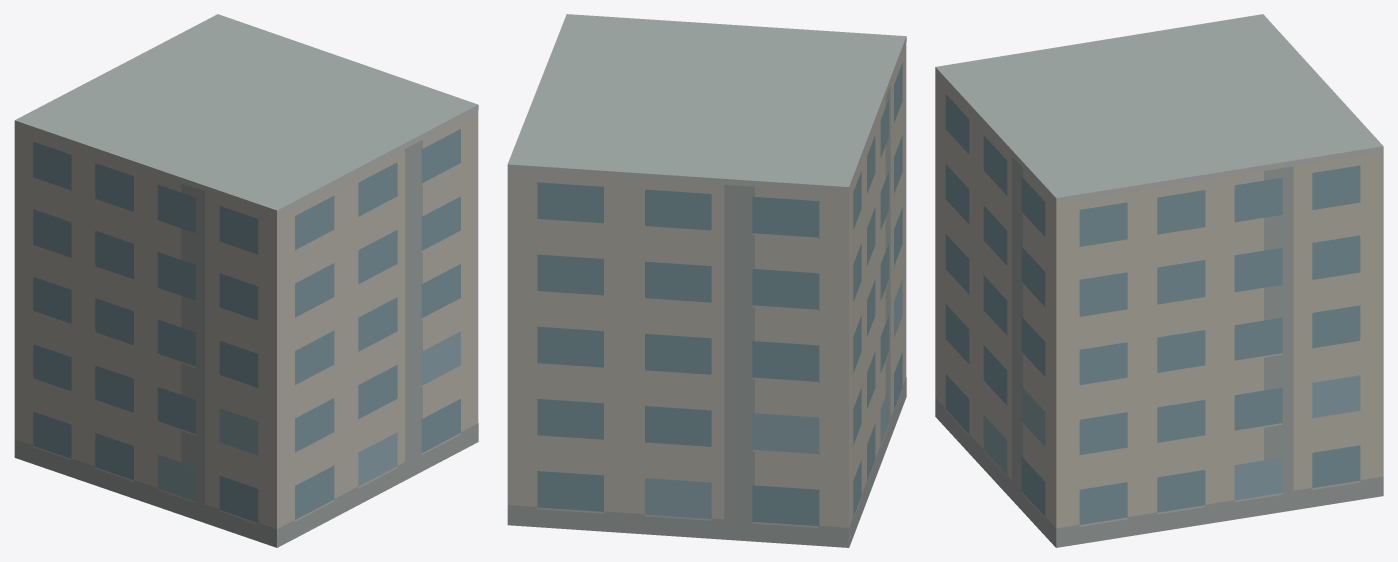
File: survey-upis-32892592.glb
3 renders of one model, left to right at view 1: azimuth 30°, elevation 25°; view 2: azimuth 150°, elevation 25°; view 3: azimuth 270°, elevation 25°, orthographic. The views are drawn at different scales.
Visible parts, largest first — view 1: survey-upis-32892592.tmp; view 2: survey-upis-32892592.tmp; view 3: survey-upis-32892592.tmp.
Part boxes in pixels (box(x1,y1,x2,y2)): survey-upis-32892592.tmp: box(14, 14, 478, 547); survey-upis-32892592.tmp: box(507, 14, 906, 547); survey-upis-32892592.tmp: box(935, 14, 1383, 547).
Bounding box in the file's own units: 16.49 × 14.6 × 16.97.
